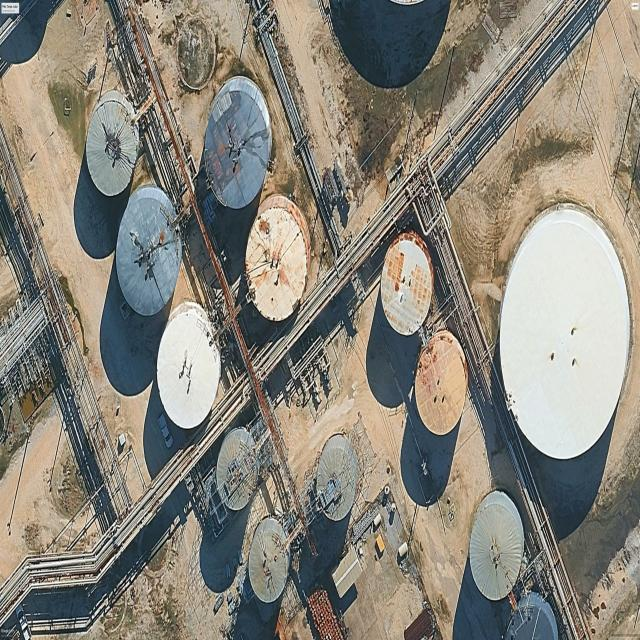Oil Rafinery: (499, 208, 630, 459), (204, 76, 272, 210), (116, 185, 182, 316), (157, 301, 221, 429), (245, 195, 310, 321), (469, 491, 524, 600), (414, 330, 468, 435), (86, 90, 139, 196), (380, 231, 433, 335), (316, 434, 359, 521), (248, 517, 290, 603), (216, 428, 257, 510), (503, 592, 558, 640)
